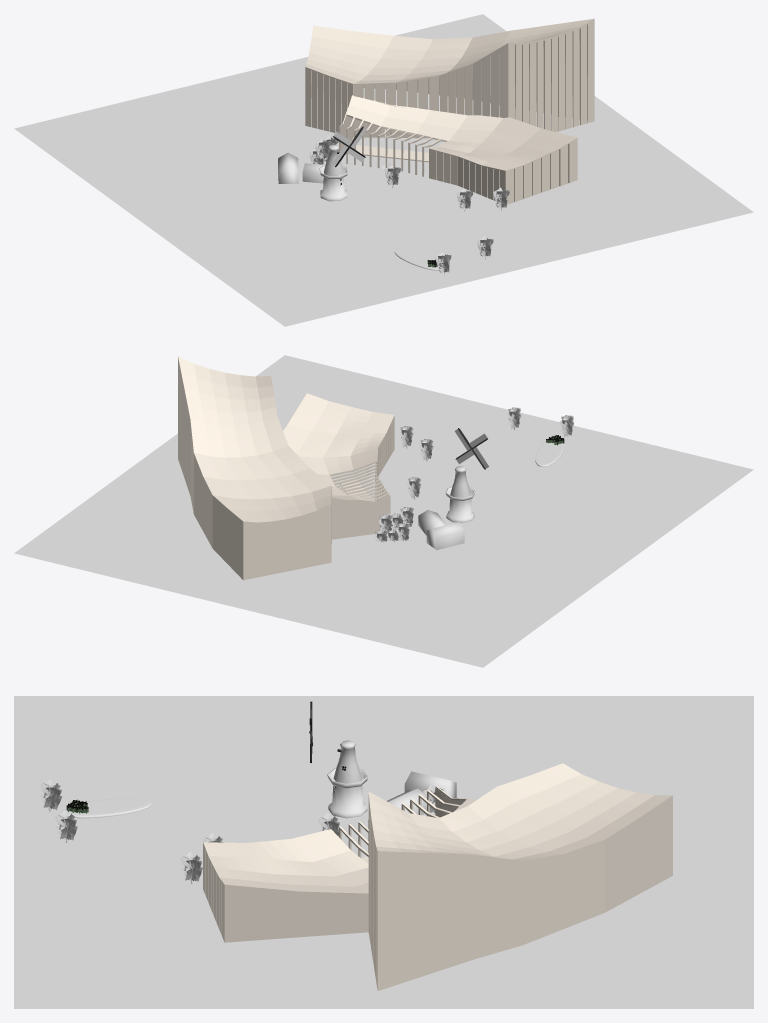
The model's file is model achtergrond4.fbx.
3 views of the same model, one above another, from view 1: azimuth 30°, elevation 25°; view 2: azimuth 150°, elevation 25°; view 3: azimuth 270°, elevation 25° (orthographic). The views are drawn at different scales.
Parts seen in each view (by area): view 1: ground, huiscul_groot, huiscul_klein, mill, Cube, mill.001, flowerbench; view 2: ground, huiscul_groot, huiscul_klein, mill, Cube, mill.001, flowerbench; view 3: ground, huiscul_groot, huiscul_klein, mill, flowerbench, Cube.
Part boxes in pixels (left/top/right/bottom): ground: left=14, top=14, right=753, bottom=326; huiscul_groot: left=305, top=18, right=594, bottom=137; huiscul_klein: left=339, top=95, right=577, bottom=204; mill: left=319, top=144, right=348, bottom=201; Cube: left=278, top=152, right=298, bottom=183; mill.001: left=331, top=126, right=366, bottom=167; flowerbench: left=394, top=247, right=438, bottom=270; ground: left=14, top=355, right=753, bottom=667; huiscul_groot: left=178, top=356, right=331, bottom=580; huiscul_klein: left=283, top=393, right=394, bottom=539; mill: left=445, top=466, right=475, bottom=522; Cube: left=426, top=522, right=464, bottom=550; mill.001: left=454, top=428, right=489, bottom=469; flowerbench: left=535, top=441, right=564, bottom=466; ground: left=14, top=696, right=753, bottom=1008; huiscul_groot: left=368, top=763, right=672, bottom=990; huiscul_klein: left=203, top=786, right=476, bottom=942; mill: left=327, top=740, right=368, bottom=818; flowerbench: left=62, top=797, right=151, bottom=818; Cube: left=404, top=771, right=456, bottom=797.
Bounding box in the file's own units: 5603 × 1395 × 5603.
